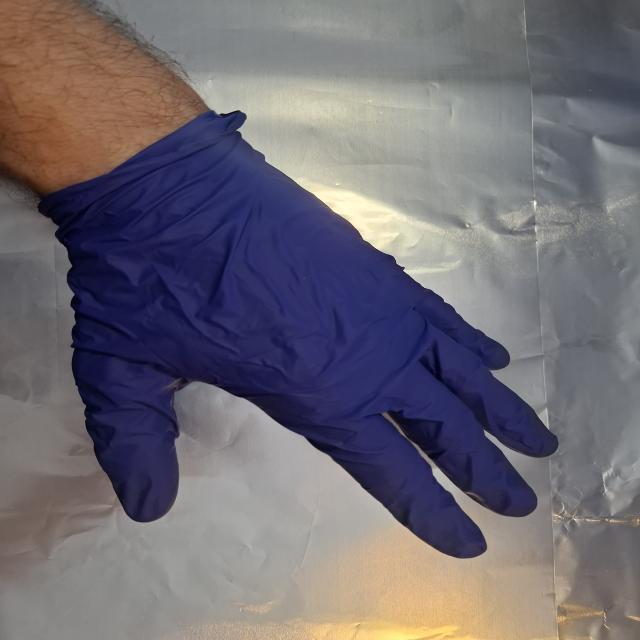glove_on: (41, 111, 562, 562)
